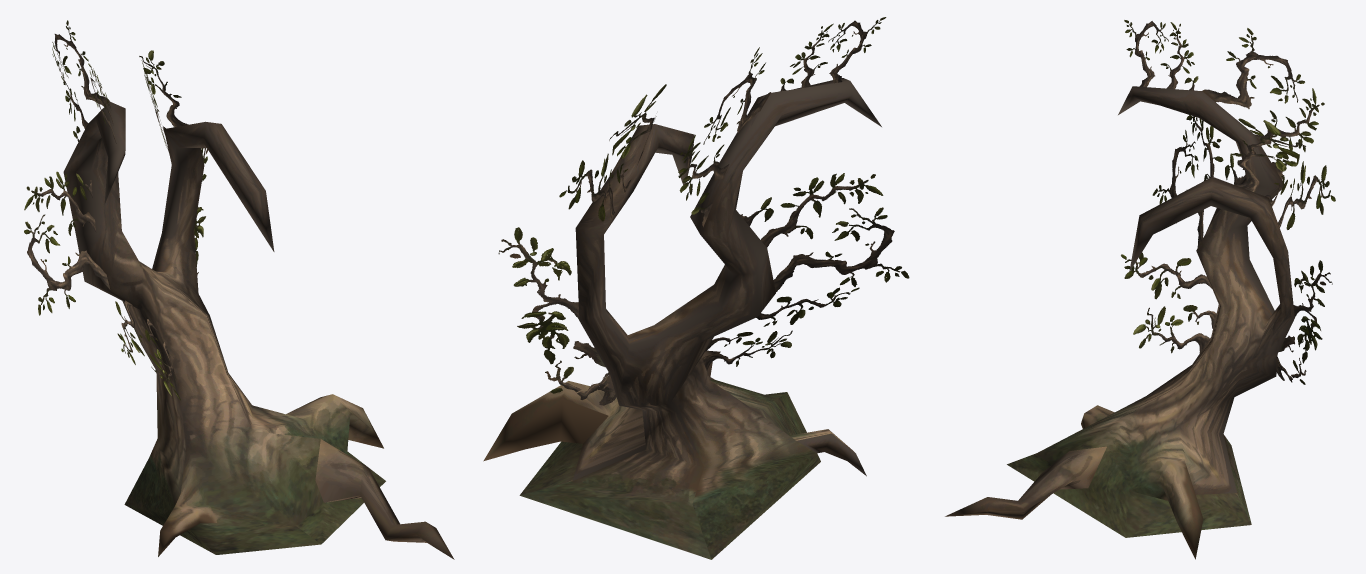
The model's file is plants_gnarled_tree_trunks.fbx.
3 renders of one model, left to right at view 1: azimuth 30°, elevation 25°; view 2: azimuth 150°, elevation 25°; view 3: azimuth 270°, elevation 25°, orthographic. The views are drawn at different scales.
Parts seen in each view (by area): view 1: Material_#238682934/fancy_tree; view 2: Material_#238682934/fancy_tree; view 3: Material_#238682934/fancy_tree.
Boxes of the visible parts, bbox=[...] form: Material_#238682934/fancy_tree: bbox=[24, 20, 454, 559]; Material_#238682934/fancy_tree: bbox=[483, 17, 909, 559]; Material_#238682934/fancy_tree: bbox=[945, 20, 1335, 559].
Bounding box in the file's own units: 7.79 × 9.92 × 8.37.
